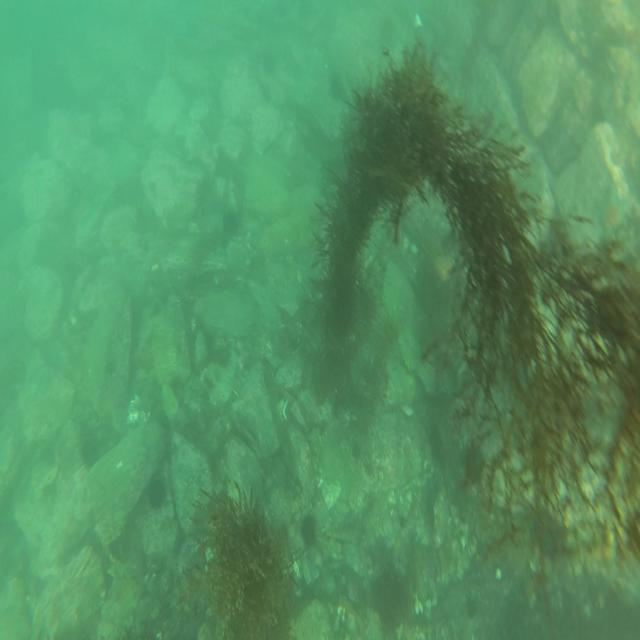echinus: (146, 475, 168, 511), (300, 511, 316, 549), (220, 208, 239, 237)
starfish: (596, 185, 626, 242)
